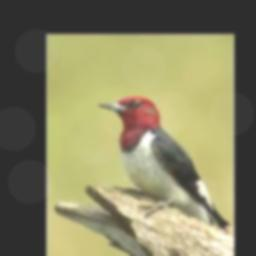Woodpecker: (97, 96, 230, 229)
